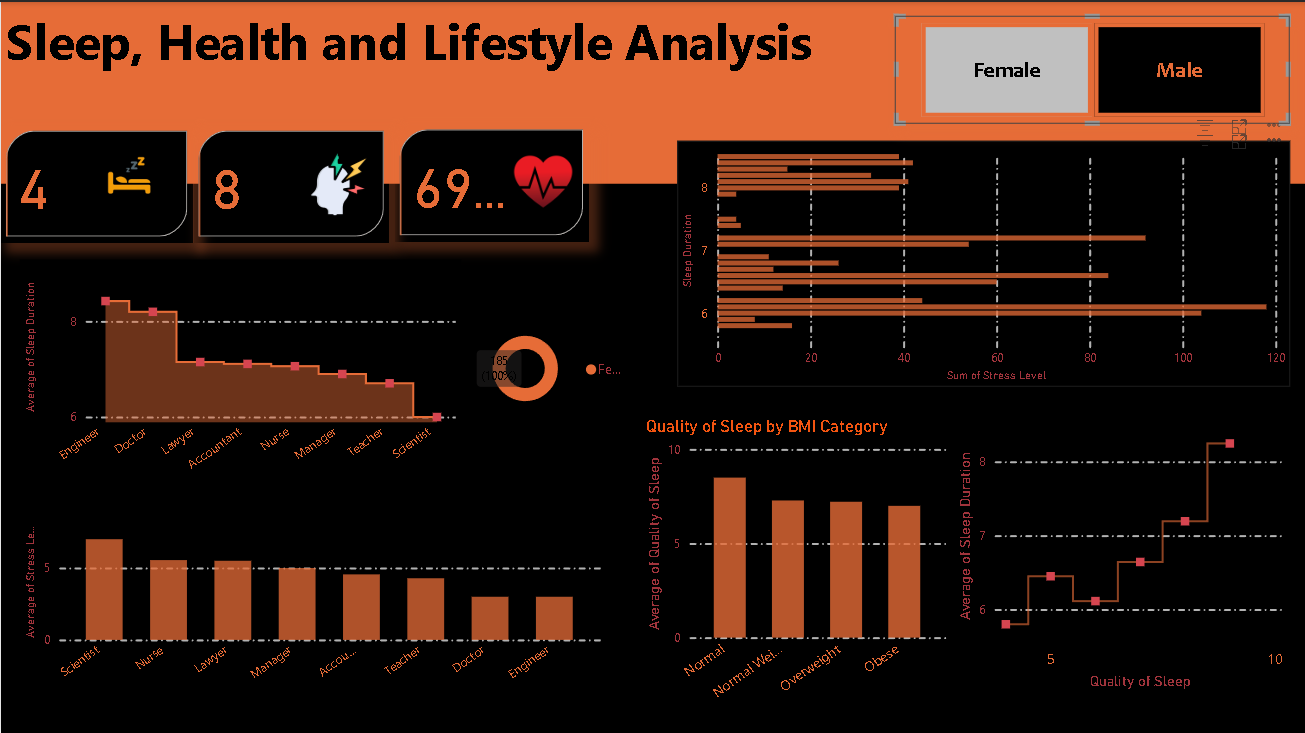

Layout of this report page (visuals, bound fields, positions):
{"tool":"powerbi","page":{"name":"Page 1","canvas":[1280,720],"ordinal":0},"visuals":[{"type":"textbox","box":[0,0,1280,178.3],"z":0},{"type":"cardVisual","fields":{"Data":["Min(Sleep_health_and_lifestyle_dataset.Quality of Sleep)"]},"box":[0,121.7,188.8,115],"z":1000},{"type":"cardVisual","fields":{"Data":["Max(Sleep_health_and_lifestyle_dataset.Stress Level)"]},"box":[188.8,121.7,192.2,115],"z":2000},{"type":"cardVisual","fields":{"Data":["Avg(Sleep_health_and_lifestyle_dataset.Heart Rate)"]},"box":[386.1,120,190.5,115],"z":3000},{"type":"slicer","fields":{"Values":["Sleep_health_and_lifestyle_dataset.Gender"]},"box":[877.5,13.8,387.5,106.2],"z":4000},{"type":"areaChart","fields":{"Category":["Sleep_health_and_lifestyle_dataset.Occupation"],"Y":["Avg(Sleep_health_and_lifestyle_dataset.Sleep Duration)"]},"box":[18.3,253.3,433.3,220],"z":5000},{"type":"columnChart","fields":{"Category":["Sleep_health_and_lifestyle_dataset.Occupation"],"Y":["Avg(Sleep_health_and_lifestyle_dataset.Stress Level)"]},"box":[18.3,500,575,180],"z":6000},{"type":"lineClusteredColumnComboChart","title":"Quality of Sleep by BMI Category","fields":{"Category":["Sleep_health_and_lifestyle_dataset.BMI Category"],"Y":["Avg(Sleep_health_and_lifestyle_dataset.Quality of Sleep)"]},"box":[628.3,406.7,305,290],"z":7000},{"type":"donutChart","fields":{"Category":["Sleep_health_and_lifestyle_dataset.Gender"],"Y":["CountNonNull(Sleep_health_and_lifestyle_dataset.Sleep Disorder)"]},"box":[451.2,270,177.5,180],"z":10000},{"type":"lineChart","fields":{"Y":["Avg(Sleep_health_and_lifestyle_dataset.Sleep Duration)"],"Category":["Sleep_health_and_lifestyle_dataset.Quality of Sleep"]},"box":[933.3,401.7,331.7,278.3],"z":11000},{"type":"clusteredBarChart","fields":{"Category":["Sleep_health_and_lifestyle_dataset.Sleep Duration"],"Y":["Sum(Sleep_health_and_lifestyle_dataset.Stress Level)"]},"box":[663.3,136.7,601.7,241.7],"z":12000}]}

Visuals, with their boxes in screenshot pixels (x1, y1, x2, y2), scaled from the page's 1280x720 canvas onto the 1305x733 screenshot:
textbox: locate(0, 0, 1304, 182)
cardVisual - Min(Sleep_health_and_lifestyle_dataset.Quality of Sleep): locate(0, 124, 192, 241)
cardVisual - Max(Sleep_health_and_lifestyle_dataset.Stress Level): locate(192, 124, 388, 241)
cardVisual - Avg(Sleep_health_and_lifestyle_dataset.Heart Rate): locate(394, 122, 588, 239)
slicer - Sleep_health_and_lifestyle_dataset.Gender: locate(895, 14, 1290, 122)
areaChart - Sleep_health_and_lifestyle_dataset.Occupation x Avg(Sleep_health_and_lifestyle_dataset.Sleep Duration): locate(19, 258, 460, 482)
columnChart - Sleep_health_and_lifestyle_dataset.Occupation x Avg(Sleep_health_and_lifestyle_dataset.Stress Level): locate(19, 509, 605, 692)
"Quality of Sleep by BMI Category" lineClusteredColumnComboChart: locate(641, 414, 952, 709)
donutChart - Sleep_health_and_lifestyle_dataset.Gender x CountNonNull(Sleep_health_and_lifestyle_dataset.Sleep Disorder): locate(460, 275, 641, 458)
lineChart - Avg(Sleep_health_and_lifestyle_dataset.Sleep Duration) x Sleep_health_and_lifestyle_dataset.Quality of Sleep: locate(952, 409, 1290, 692)
clusteredBarChart - Sleep_health_and_lifestyle_dataset.Sleep Duration x Sum(Sleep_health_and_lifestyle_dataset.Stress Level): locate(676, 139, 1290, 385)
